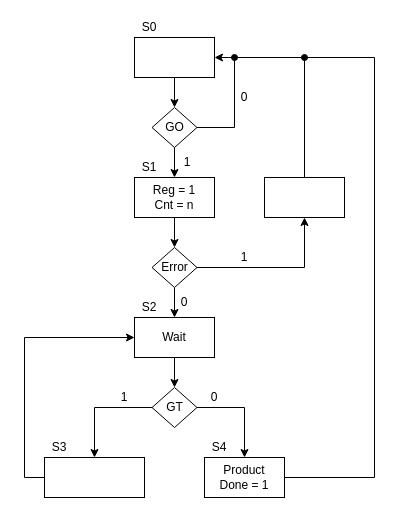
Some shapes in this 400 by 515 pixel diagram are drawn without their labels. The centre of each missing label's shape, as x and y in pixels:
"DP_Error = 1" belongs at point (304, 197).
"IDLE" belongs at point (174, 57).
"Reg = Reg * Cnt Cnt = Cnt - 1" belongs at point (94, 477).
